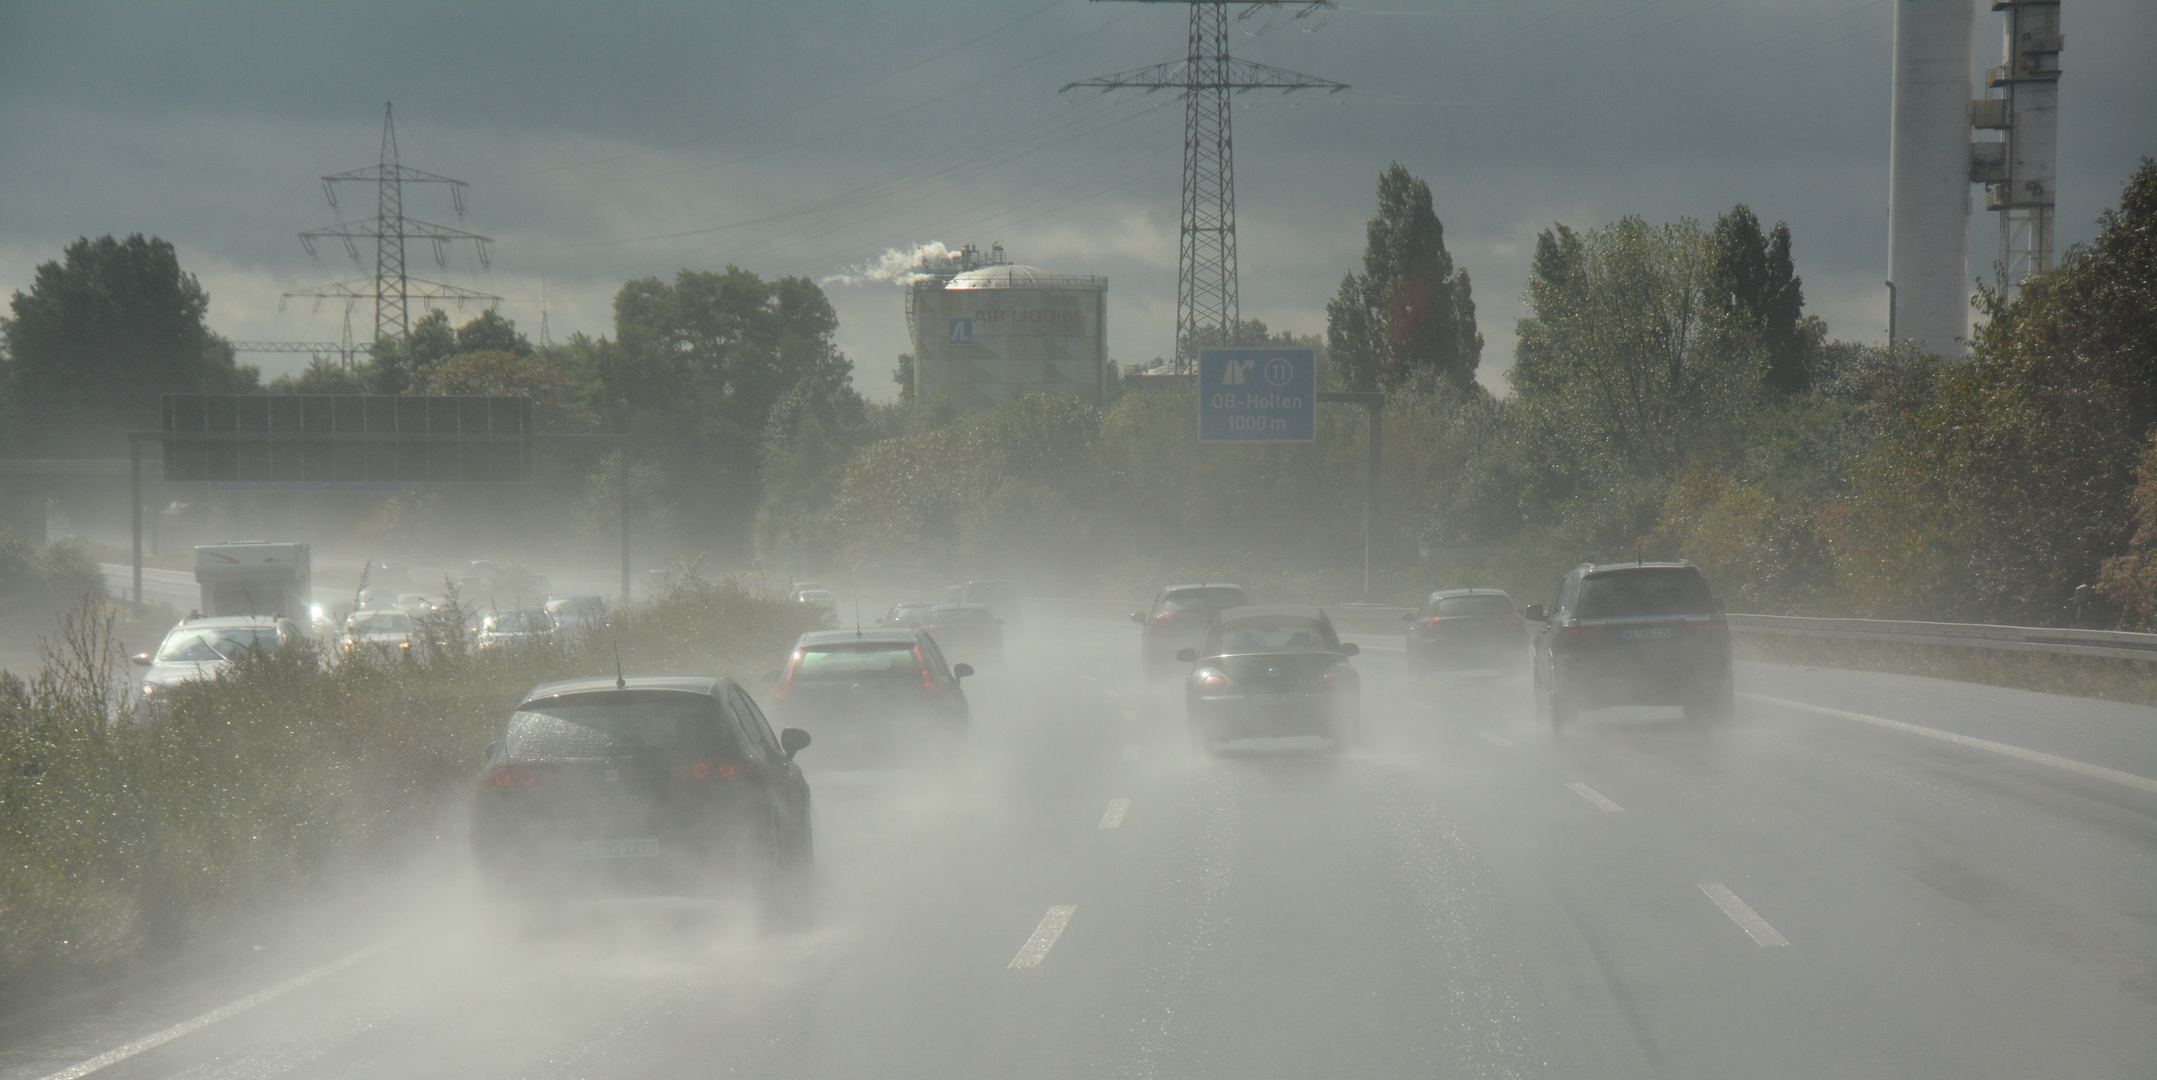car: (464, 674, 820, 926), (1534, 561, 1733, 738), (1174, 607, 1364, 752), (778, 630, 963, 763), (134, 614, 302, 709), (187, 540, 292, 661), (1408, 590, 1525, 668), (1134, 583, 1253, 645), (921, 601, 1008, 686), (337, 612, 445, 676), (474, 605, 556, 652), (959, 581, 1023, 627), (541, 594, 605, 630), (877, 601, 928, 634), (796, 591, 839, 619)
